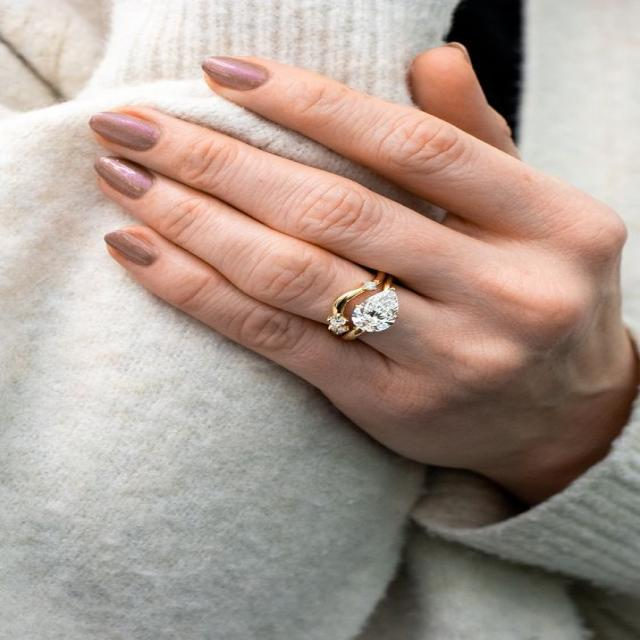Fingernail: (91, 112, 160, 151), (96, 157, 152, 199), (203, 57, 267, 90), (105, 232, 156, 267)
